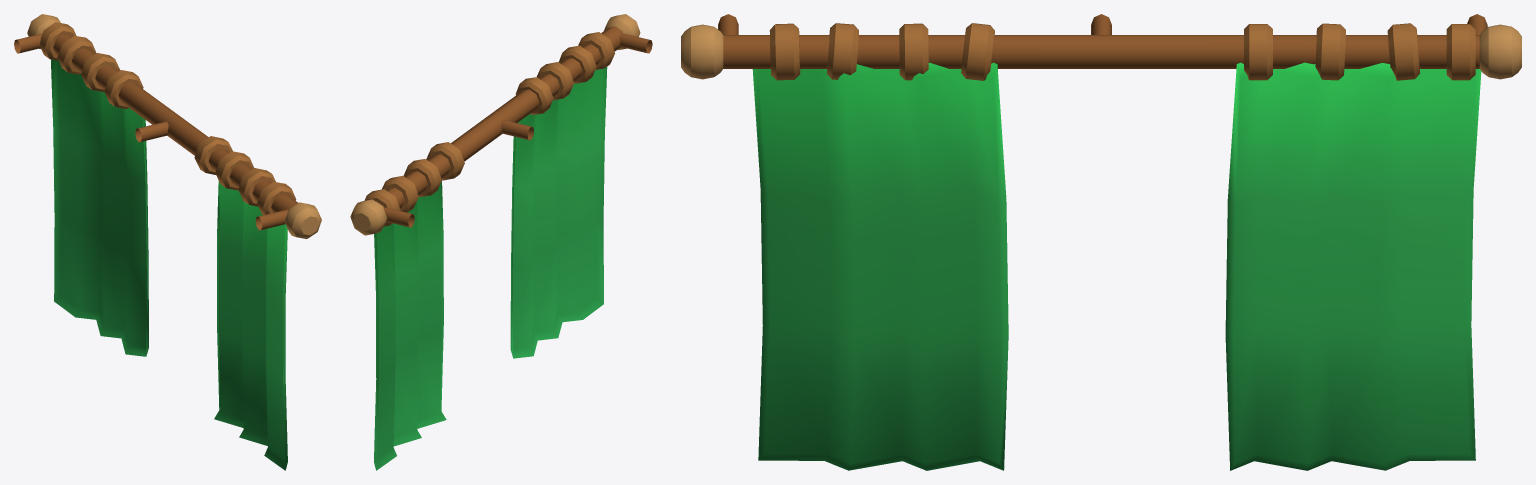
The model's file is Curtains_Long_2_D_G.glb.
The picture shows the model from 3 angles, left to right: view 1: azimuth 30°, elevation 25°; view 2: azimuth 150°, elevation 25°; view 3: azimuth 270°, elevation 25°; orthographic projection. The views are drawn at different scales.
Visible parts, largest first — view 1: Curtains_Long_2_D_G; view 2: Curtains_Long_2_D_G; view 3: Curtains_Long_2_D_G.
Part boxes in pixels (x1=…): Curtains_Long_2_D_G: x1=14, y1=14, x2=321, y2=470; Curtains_Long_2_D_G: x1=350, y1=14, x2=652, y2=470; Curtains_Long_2_D_G: x1=681, y1=14, x2=1521, y2=470.
Bounding box in the file's own units: 0.2288 × 1.16 × 2.02.
Materials: 1 (1 with a texture image).
